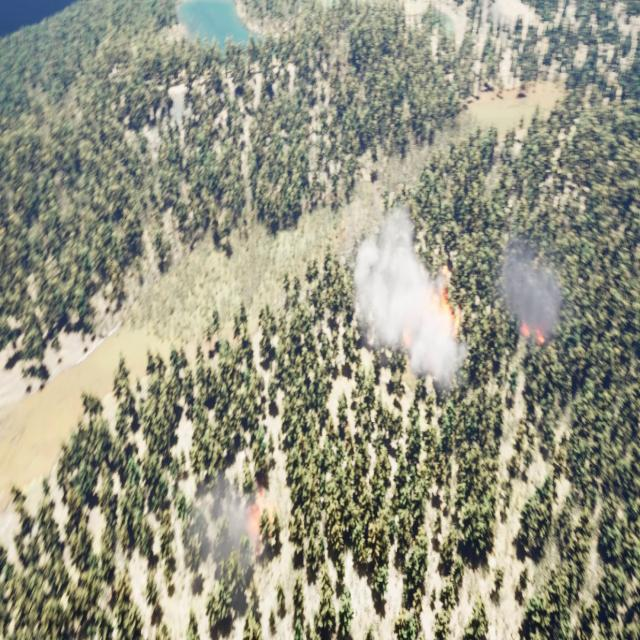fire: (402, 294, 466, 351), (243, 490, 274, 546), (518, 312, 550, 344)
smoke: (349, 200, 467, 397), (190, 493, 262, 605), (494, 229, 565, 342)
